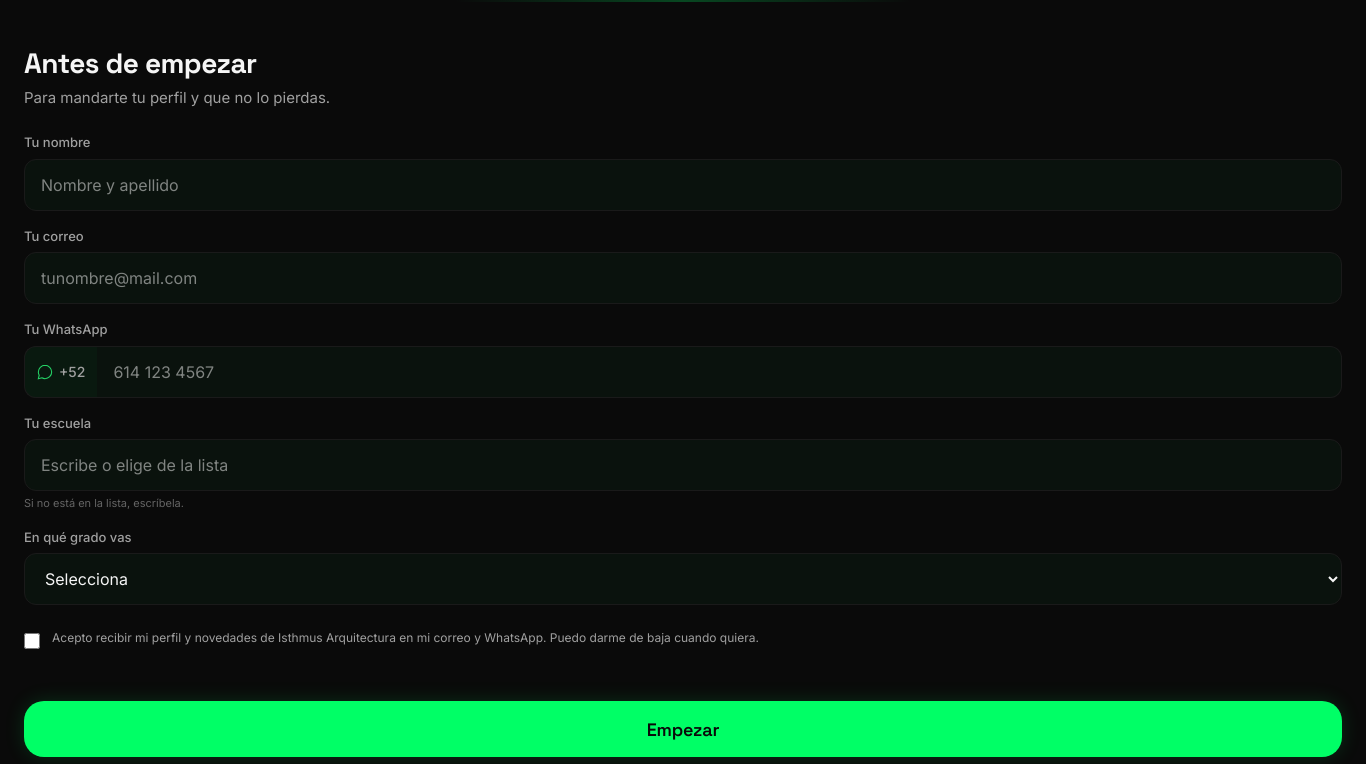
LeadForm — validation › blocks submit when name is empty
This screenshot has width=1366, height=764.
Click the button "Empezar" at (683, 729), box [24,701,1342,757]
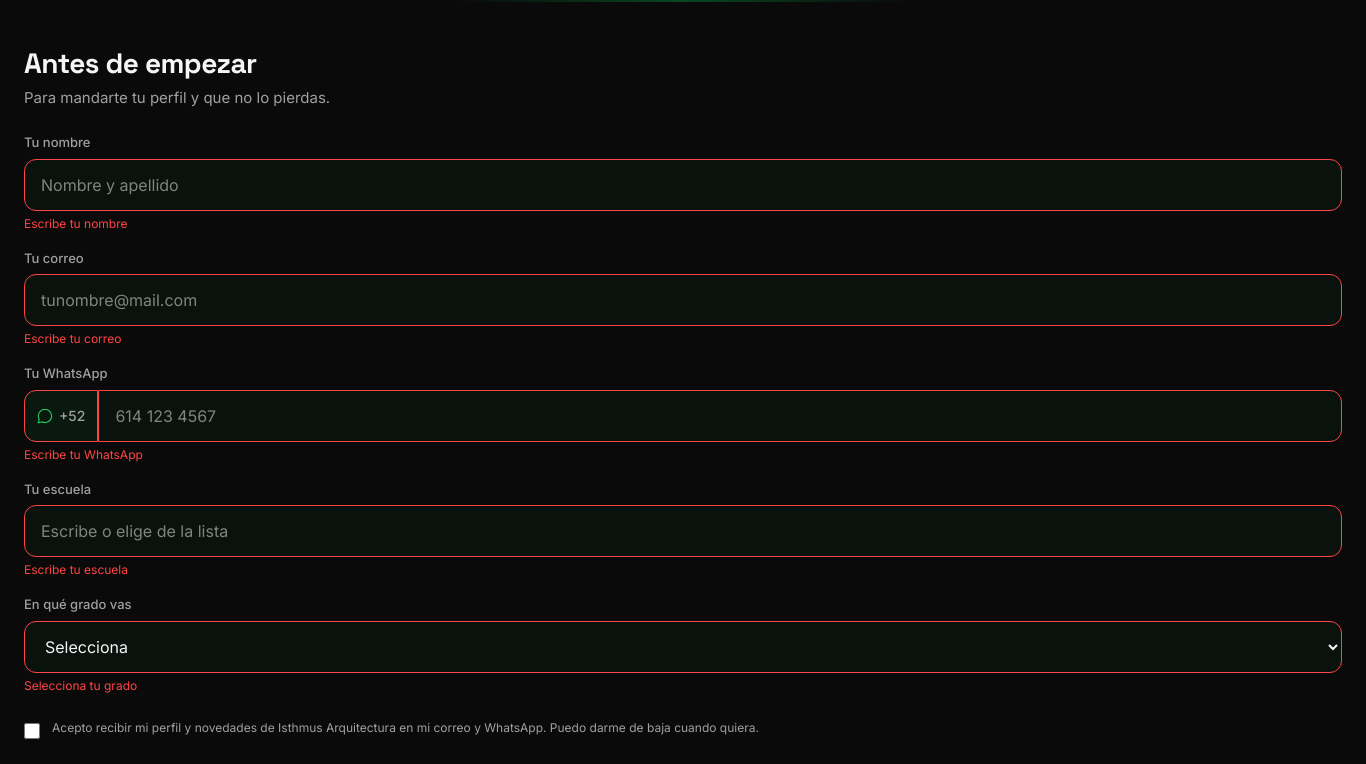
Expected: the text "Escribe tu nombre" is shown, [24,216,128,231]
